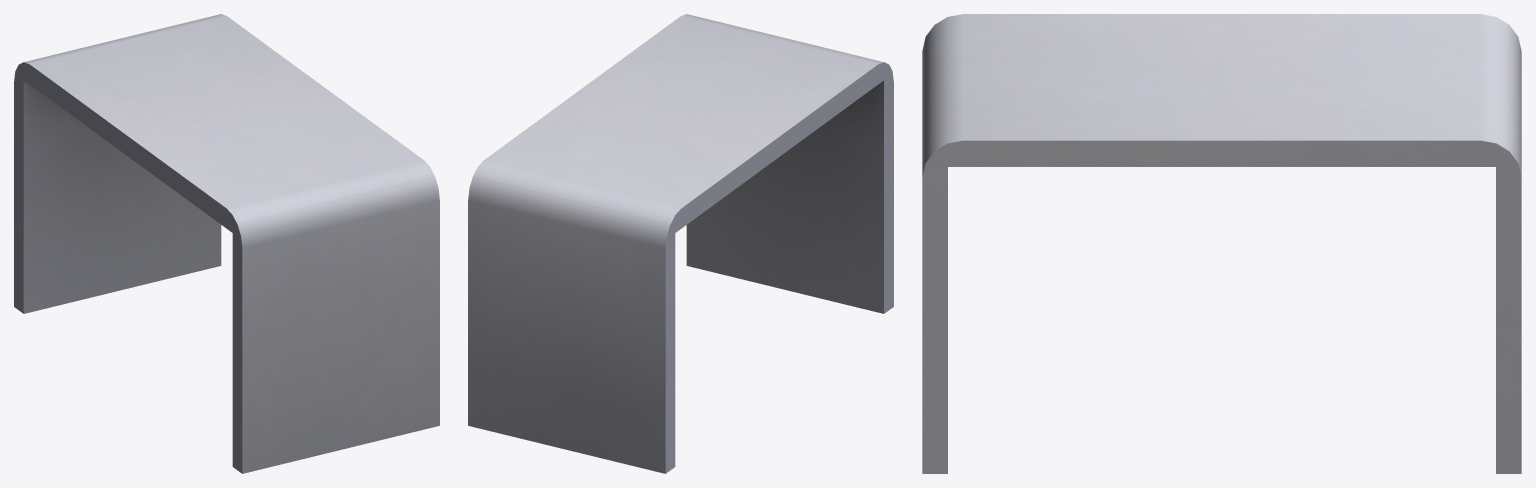
File: zhangui003.obj
The picture shows the model from 3 angles, left to right: view 1: azimuth 30°, elevation 25°; view 2: azimuth 150°, elevation 25°; view 3: azimuth 270°, elevation 25°; orthographic projection. The views are drawn at different scales.
Parts seen in each view (by area): view 1: 3; view 2: 3; view 3: 3.
Boxes of the visible parts, <box> form: 3: <box>14,14,439,473</box>; 3: <box>468,14,893,473</box>; 3: <box>922,14,1521,473</box>.
Bounding box in the file's own units: 0.5912 × 0.7264 × 1.18.
Materials: 1 (1 with a texture image).
